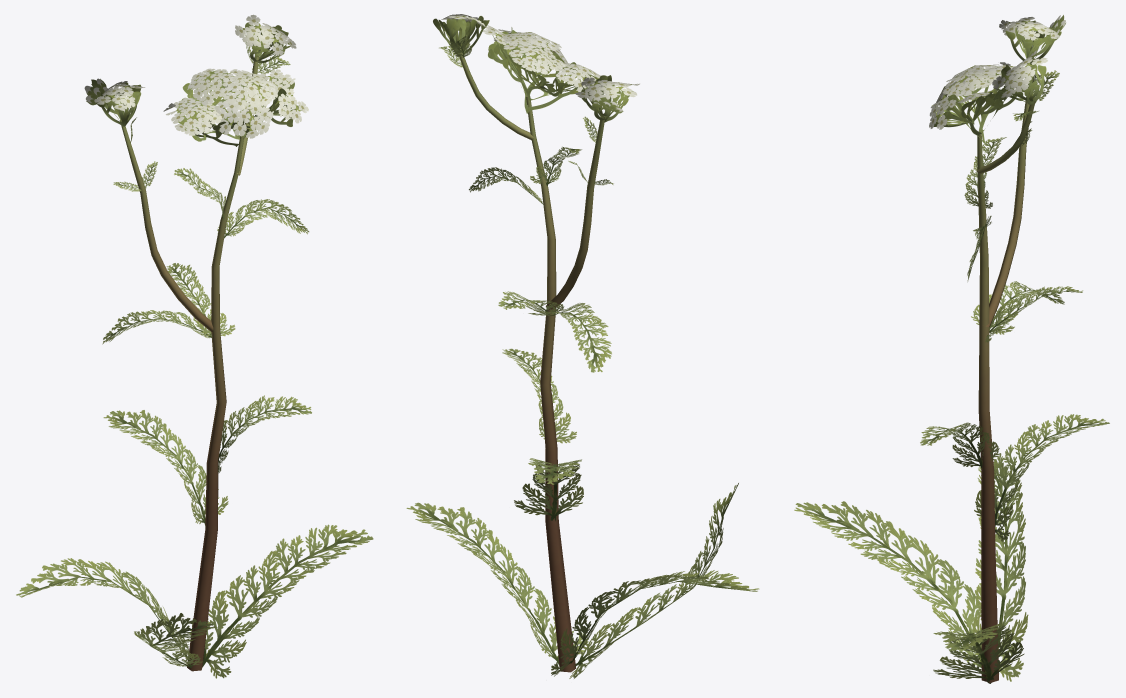
Rendered from SM_Plant_Grass_Yarrow_01.gltf.
3 views of the same model, side by side, from view 1: azimuth 30°, elevation 25°; view 2: azimuth 150°, elevation 25°; view 3: azimuth 270°, elevation 25° (orthographic). The views are drawn at different scales.
Parts seen in each view (by area): view 1: SM_Plant_Grass_Yarrow_01; view 2: SM_Plant_Grass_Yarrow_01; view 3: SM_Plant_Grass_Yarrow_01.
Part boxes in pixels (x1,y1,x2,y2): SM_Plant_Grass_Yarrow_01: (16,14,373,678); SM_Plant_Grass_Yarrow_01: (406,14,759,678); SM_Plant_Grass_Yarrow_01: (794,15,1109,683).
Bounding box in the file's own units: 0.3049 × 0.5227 × 0.2282.
Materials: 1 (1 with a texture image).
